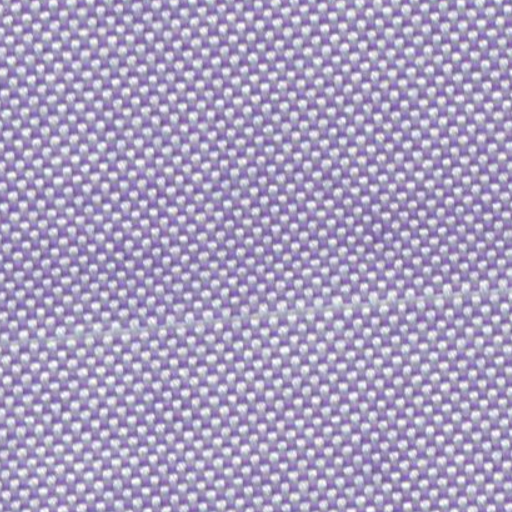TuoSha: (12, 276, 504, 380)
